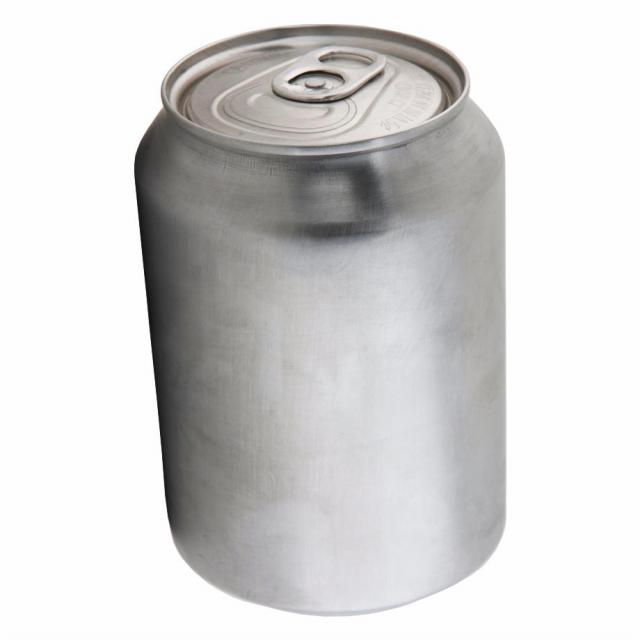metel: (136, 23, 518, 615)
